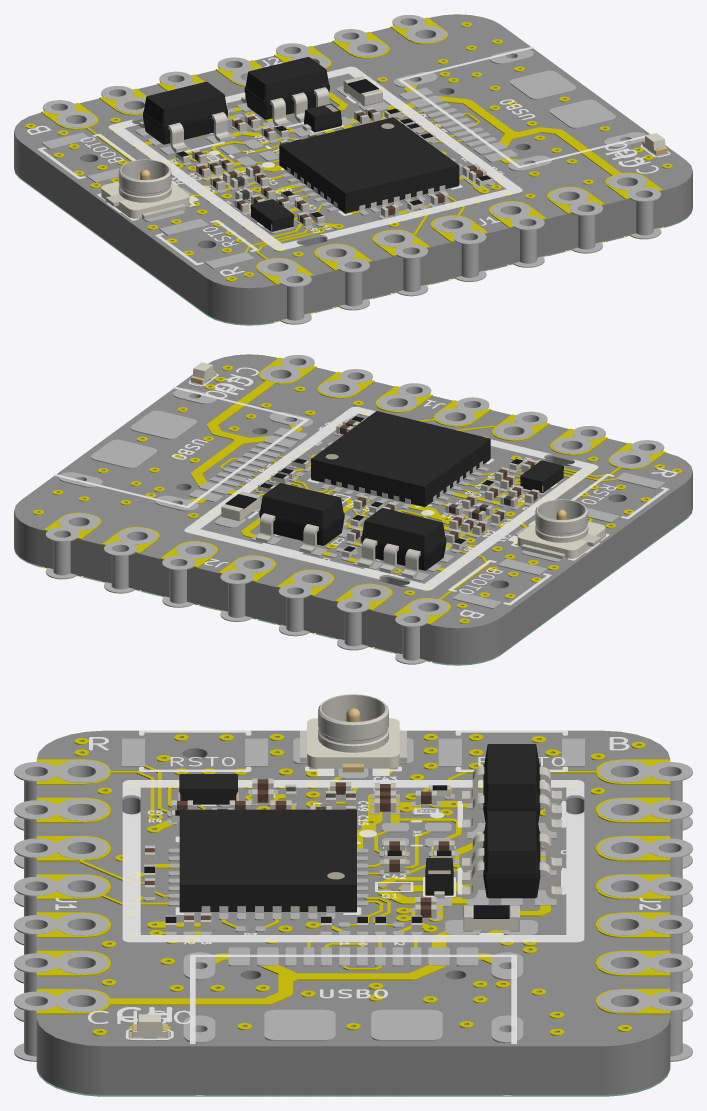
Rendered from seeed-xiao-esp32-c3.meshopt.glb.
3 views of the same model, one above another, from view 1: azimuth 30°, elevation 25°; view 2: azimuth 150°, elevation 25°; view 3: azimuth 270°, elevation 25° (orthographic). The views are drawn at different scales.
Parts seen in each view (by area): view 1: =>[0:1:1:17], =>[0:1:1:13], =>[0:1:1:12], U4, =>[0:1:1:15], U1, U2, ANT0, X2, D1, F1, =>[0:1:1:16] (+1 smaller); view 2: =>[0:1:1:17], =>[0:1:1:13], =>[0:1:1:12], U4, =>[0:1:1:15], U1, U2, ANT0, X2, F1, =>[0:1:1:16], =>[0:1:1:14]; view 3: =>[0:1:1:17], =>[0:1:1:13], =>[0:1:1:12], =>[0:1:1:15], U4, ANT0, U2, U1, X2, F1, =>[0:1:1:14], =>[0:1:1:16] (+2 smaller).
Part boxes in pixels (left/top/right/bottom): =>[0:1:1:17]: left=14, top=14, right=692, bottom=324; =>[0:1:1:13]: left=41, top=14, right=667, bottom=324; =>[0:1:1:12]: left=25, top=17, right=672, bottom=321; U4: left=279, top=117, right=459, bottom=213; =>[0:1:1:15]: left=27, top=46, right=674, bottom=325; U1: left=139, top=81, right=231, bottom=152; U2: left=241, top=57, right=329, bottom=126; ANT0: left=101, top=159, right=189, bottom=219; X2: left=250, top=199, right=294, bottom=231; D1: left=302, top=103, right=343, bottom=132; F1: left=343, top=76, right=382, bottom=106; =>[0:1:1:16]: left=14, top=157, right=692, bottom=325; =>[0:1:1:17]: left=14, top=354, right=692, bottom=664; =>[0:1:1:13]: left=45, top=354, right=665, bottom=664; =>[0:1:1:12]: left=33, top=357, right=682, bottom=661; U4: left=311, top=411, right=490, bottom=507; =>[0:1:1:15]: left=32, top=367, right=677, bottom=665; U1: left=357, top=508, right=449, bottom=579; U2: left=256, top=483, right=347, bottom=554; ANT0: left=517, top=499, right=605, bottom=559; X2: left=520, top=460, right=563, bottom=492; F1: left=221, top=491, right=260, bottom=521; =>[0:1:1:16]: left=14, top=508, right=692, bottom=665; =>[0:1:1:14]: left=36, top=366, right=679, bottom=621; =>[0:1:1:17]: left=36, top=730, right=670, bottom=1094; =>[0:1:1:13]: left=14, top=738, right=692, bottom=1061; =>[0:1:1:12]: left=36, top=734, right=670, bottom=1035; =>[0:1:1:15]: left=36, top=729, right=670, bottom=1095; U4: left=179, top=809, right=357, bottom=912; ANT0: left=300, top=694, right=406, bottom=772; U2: left=462, top=811, right=561, bottom=898; U1: left=462, top=744, right=561, bottom=831; X2: left=179, top=774, right=237, bottom=804; F1: left=463, top=905, right=519, bottom=931; =>[0:1:1:14]: left=78, top=735, right=641, bottom=1033; =>[0:1:1:16]: left=36, top=812, right=670, bottom=1096.
Size of the model in its own units: 0.0211 by 0.00322 by 0.019.
